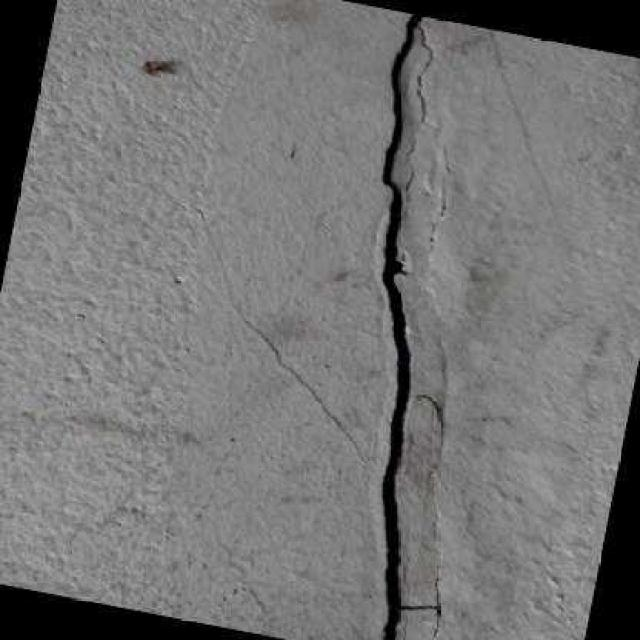D00: (380, 12, 425, 640)
